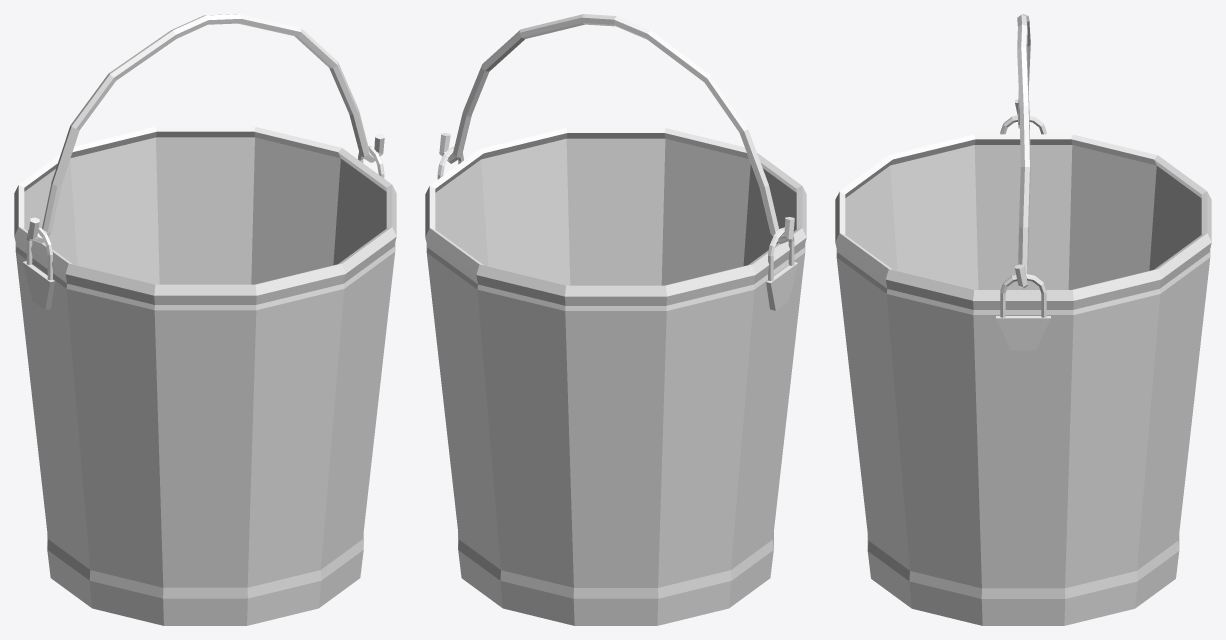
The model's file is Prop_Bucket_02.glb.
3 renders of one model, left to right at view 1: azimuth 30°, elevation 25°; view 2: azimuth 150°, elevation 25°; view 3: azimuth 270°, elevation 25°, orthographic.
Parts seen in each view (by area): view 1: Prop_Bucket_02, Prop_Bucket_Handle_02; view 2: Prop_Bucket_02, Prop_Bucket_Handle_02; view 3: Prop_Bucket_02, Prop_Bucket_Handle_02.
Boxes of the visible parts, <box> form: Prop_Bucket_02: <box>14,126,396,625</box>; Prop_Bucket_Handle_02: <box>28,14,384,243</box>; Prop_Bucket_02: <box>425,128,806,625</box>; Prop_Bucket_Handle_02: <box>439,14,794,244</box>; Prop_Bucket_02: <box>835,115,1211,625</box>; Prop_Bucket_Handle_02: <box>1015,14,1030,288</box>.
Bounding box in the file's own units: 0.3755 × 0.5522 × 0.3508.
1 material, 1 textured.
